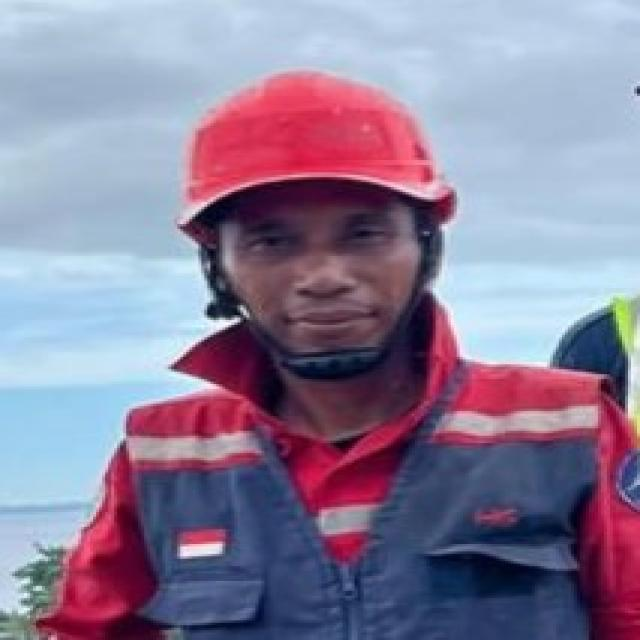safetyhelmet: (154, 74, 463, 329)
